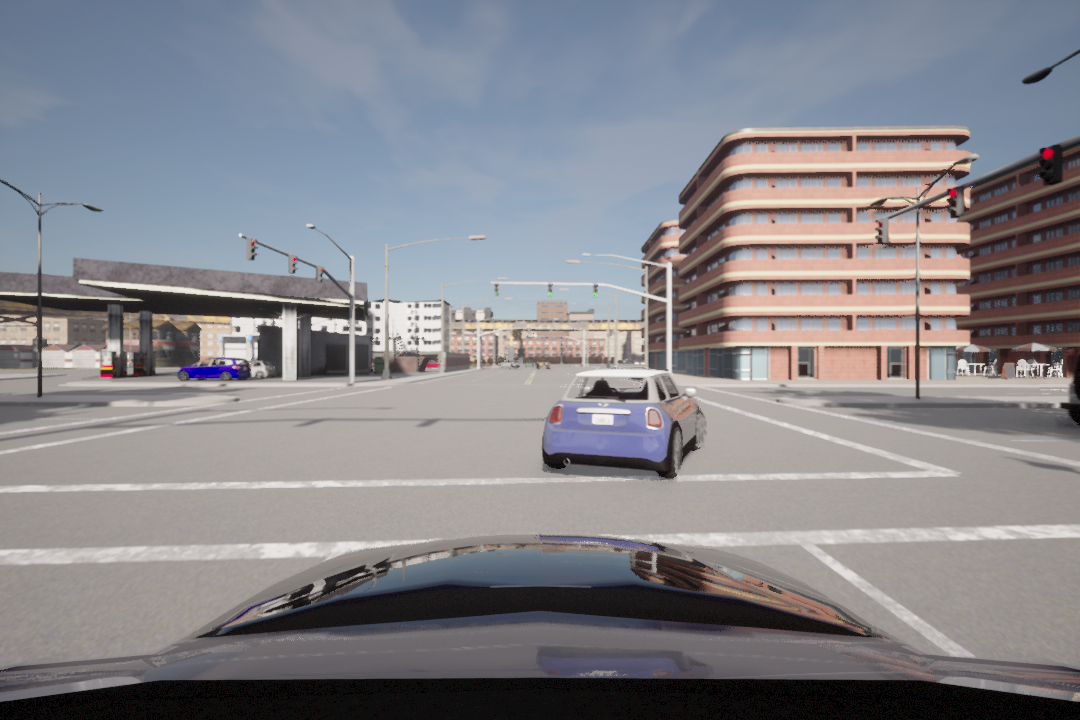TrafficLight: (1034, 146, 1065, 190), (944, 185, 967, 219), (872, 216, 891, 248), (244, 237, 259, 261), (288, 251, 301, 276), (314, 264, 325, 285), (490, 281, 503, 296), (547, 282, 555, 299), (592, 284, 601, 299)
